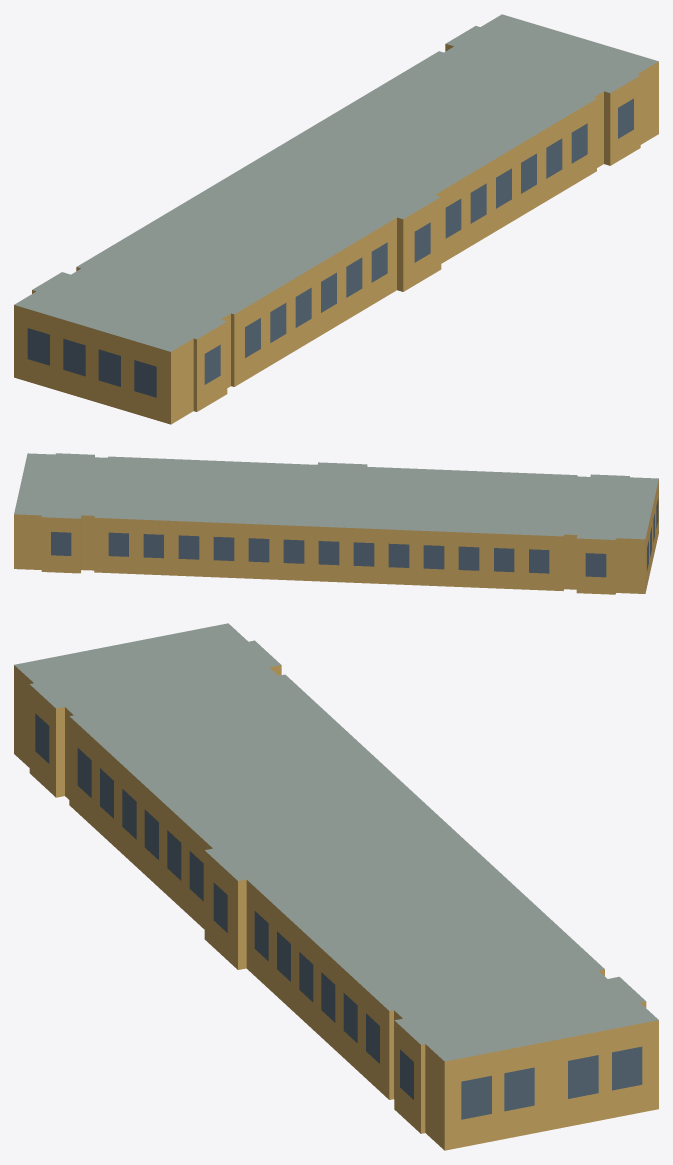
The model's file is moscow-kremlin-sports-hall.glb.
3 views of the same model, one above another, from view 1: azimuth 30°, elevation 25°; view 2: azimuth 150°, elevation 25°; view 3: azimuth 270°, elevation 25° (orthographic). The views are drawn at different scales.
Visible parts, largest first — view 1: Kremlin sports hall; view 2: Kremlin sports hall; view 3: Kremlin sports hall.
Boxes of the visible parts, left/top/right/bottom form: Kremlin sports hall: left=14, top=14, right=658, bottom=424; Kremlin sports hall: left=14, top=453, right=658, bottom=594; Kremlin sports hall: left=14, top=623, right=658, bottom=1150.
Size of the model in its own units: 73.86 by 7 by 45.93.
